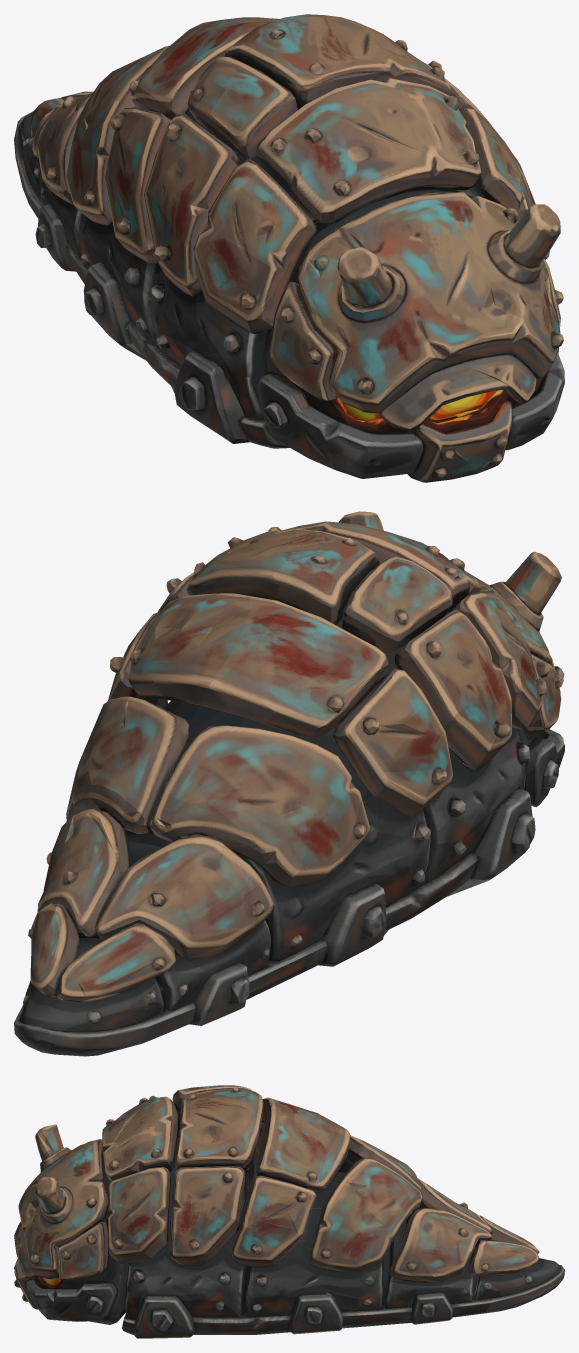
The model's file is 03_iron_slug.glb.
3 views of the same model, one above another, from view 1: azimuth 30°, elevation 25°; view 2: azimuth 150°, elevation 25°; view 3: azimuth 270°, elevation 25° (orthographic). The views are drawn at different scales.
Visible parts, largest first — view 1: output_unwrapped; view 2: output_unwrapped; view 3: output_unwrapped.
Boxes of the visible parts, <box> form: output_unwrapped: <box>14,14,564,482</box>; output_unwrapped: <box>14,511,564,1056</box>; output_unwrapped: <box>14,1085,564,1338</box>.
Bounding box in the file's own units: 0.8683 × 0.7793 × 1.9.
Materials: 1 (1 with a texture image).
